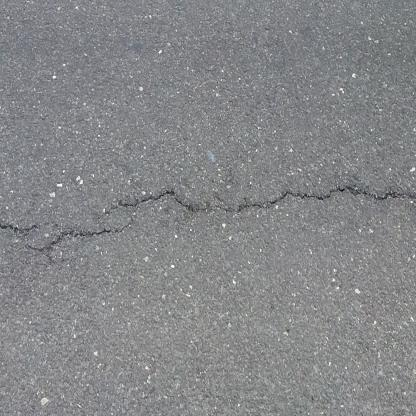Cracks: (0, 179, 416, 252)
